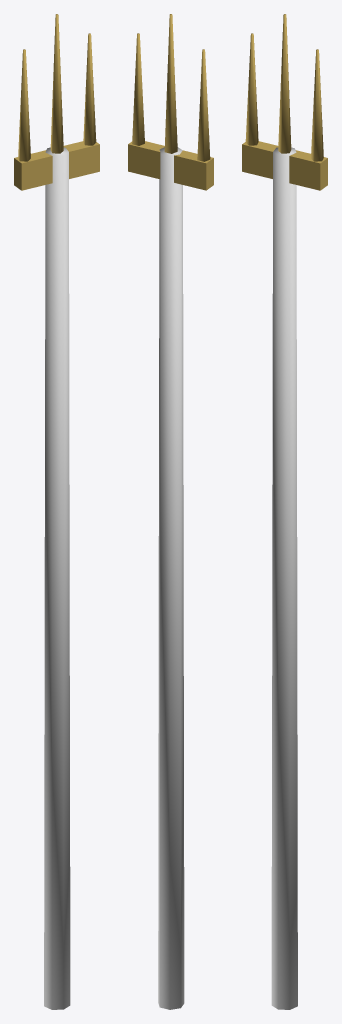
File: trident.glb
3 renders of one model, left to right at view 1: azimuth 30°, elevation 25°; view 2: azimuth 150°, elevation 25°; view 3: azimuth 330°, elevation 25°, orthographic.
Parts seen in each view (by area): view 1: trident_v0; view 2: trident_v0; view 3: trident_v0.
Boxes of the visible parts, x1=… form: trident_v0: x1=14, y1=14, x2=99, y2=1009; trident_v0: x1=128, y1=14, x2=213, y2=1009; trident_v0: x1=242, y1=14, x2=327, y2=1009.
Bounding box in the file's own units: 0.12 × 1.45 × 0.0342.
